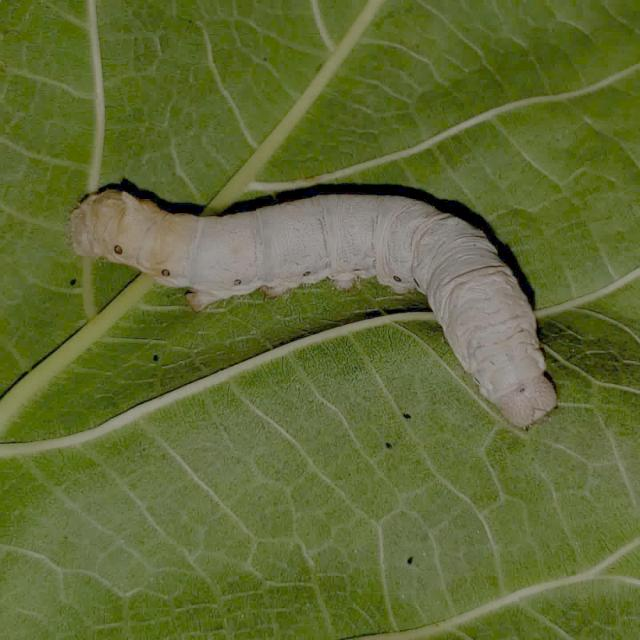Grasserie: (45, 159, 580, 443)
